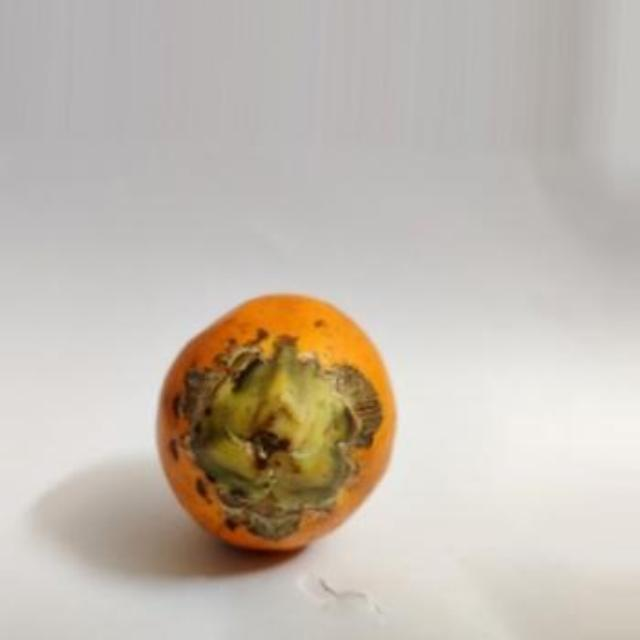good: (155, 296, 395, 554)
